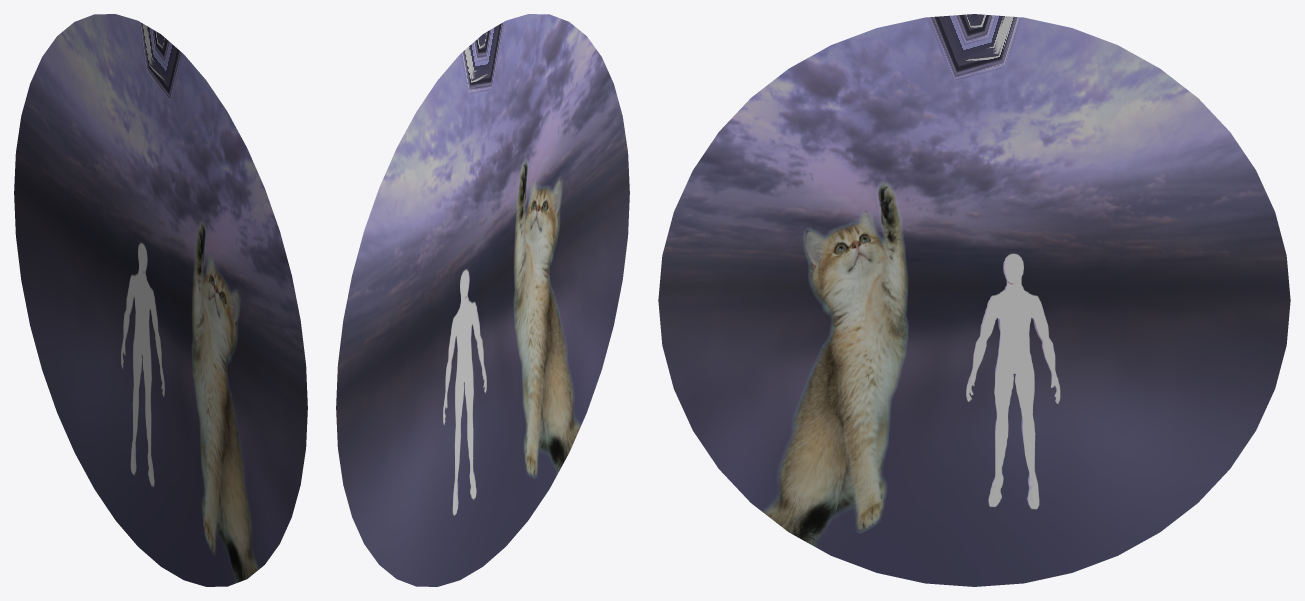
File: disc2.glb
The picture shows the model from 3 angles, left to right: view 1: azimuth 30°, elevation 25°; view 2: azimuth 150°, elevation 25°; view 3: azimuth 270°, elevation 25°; orthographic projection. The views are drawn at different scales.
Bounding box in the file's own units: 4.44e-16 × 2 × 2.
Materials: 1 (1 with a texture image).
